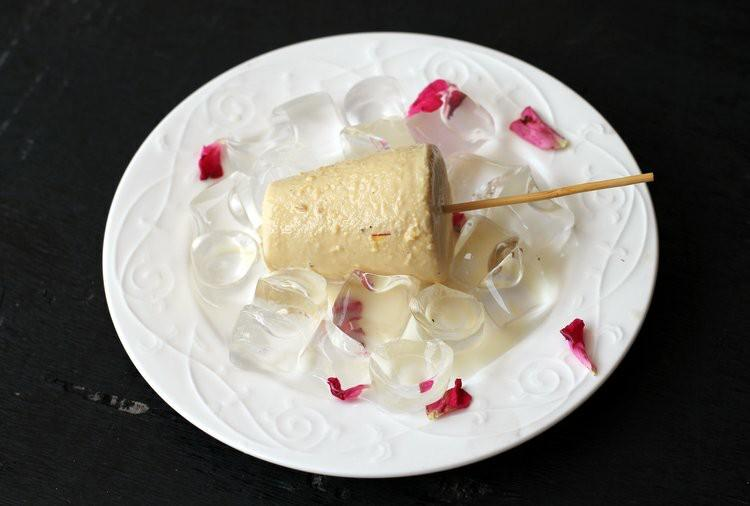Kulfi: (258, 144, 457, 283)
